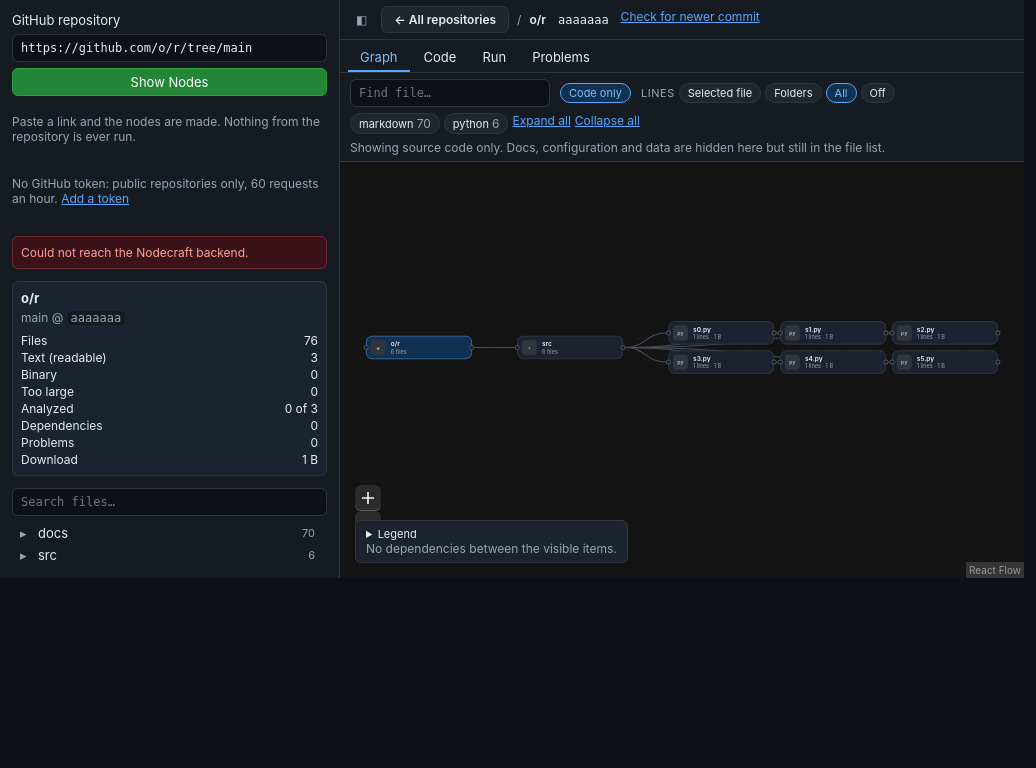
Scenario: the Explorer is easy to find and to leave › big repositories open code-only, and say so; the toggle shows everything
Expected: the text "Showing source code only" is shown, [350,140,885,155]
Expected: the number of elements with class "xt-file" is 6, [668,321,774,344]; [780,321,886,344]; [892,321,998,344]; [668,350,774,374]; [780,350,886,374]; [892,350,998,374]
Click the button "Code only" at (595, 93), box [560,83,631,103]
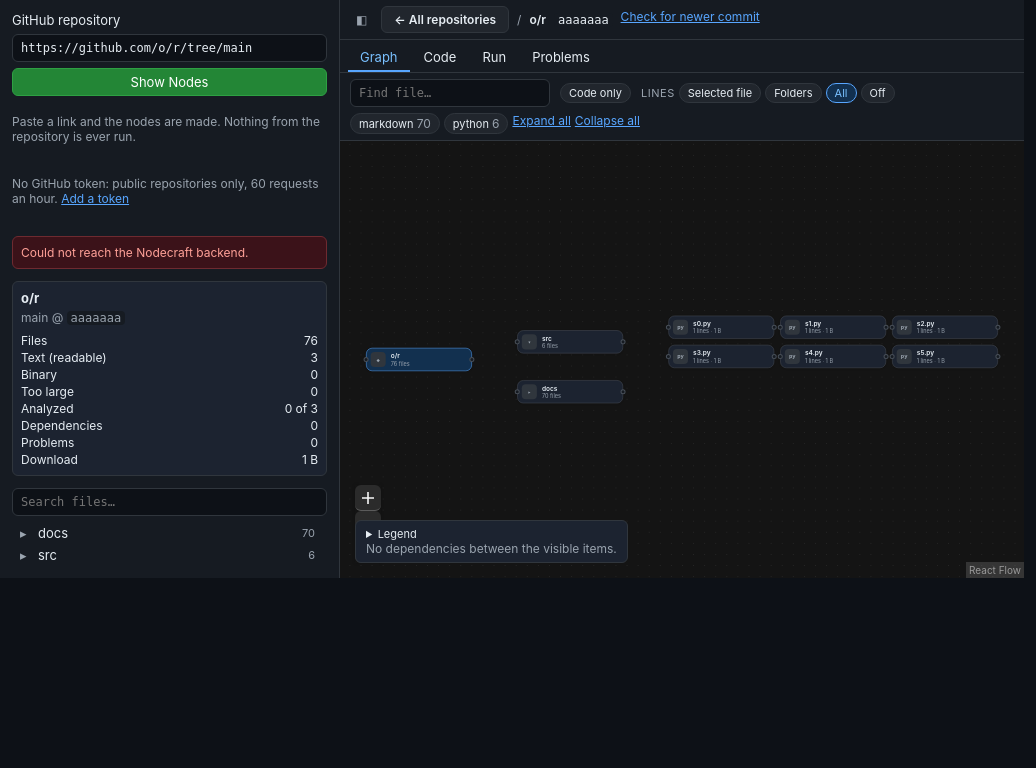
Expected: the text "Showing source code only" is gone
